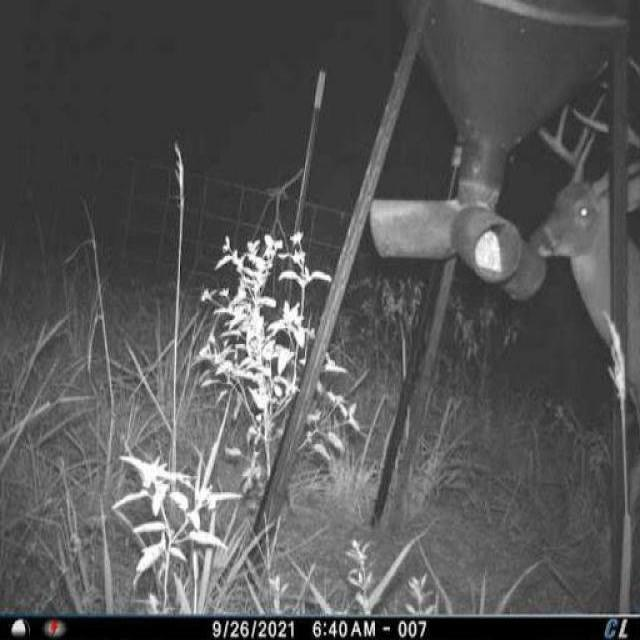deer: (522, 43, 640, 589)
